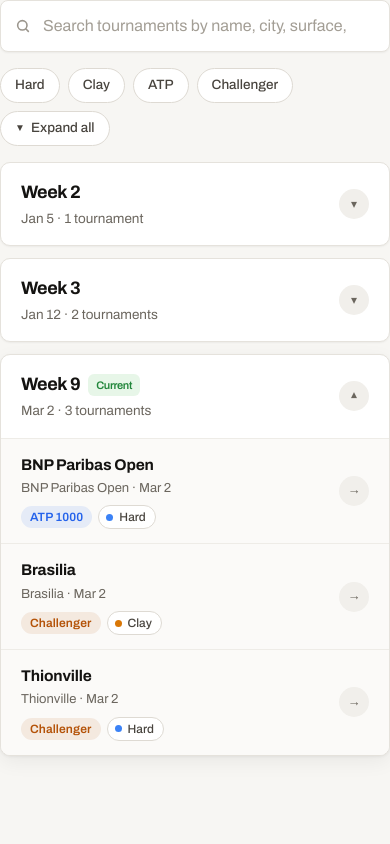
Test case: WeekTournamentPicker pill filtering › keeps the week groups and filters rows when a level pill is clicked
Click the button "Challenger" at (245, 85), box top-left (197, 68), bottom-right (293, 103)
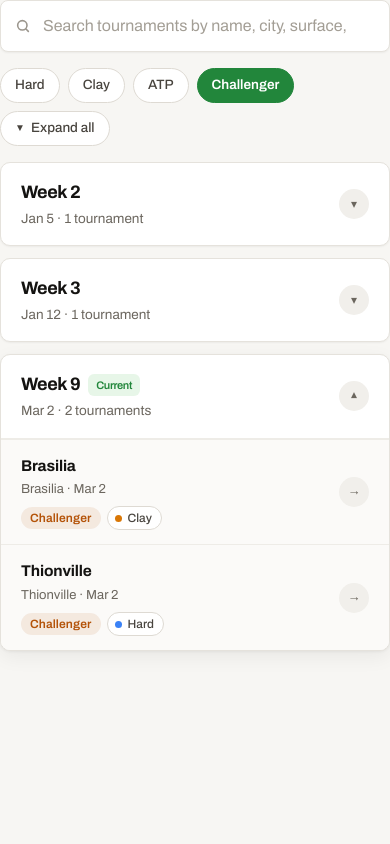
Expected: the text "1 tournament" next to "Jan 5" is shown, top-left (64, 211), bottom-right (143, 226)
Expected: the text "2 tournaments" is shown, top-left (65, 403), bottom-right (151, 418)
